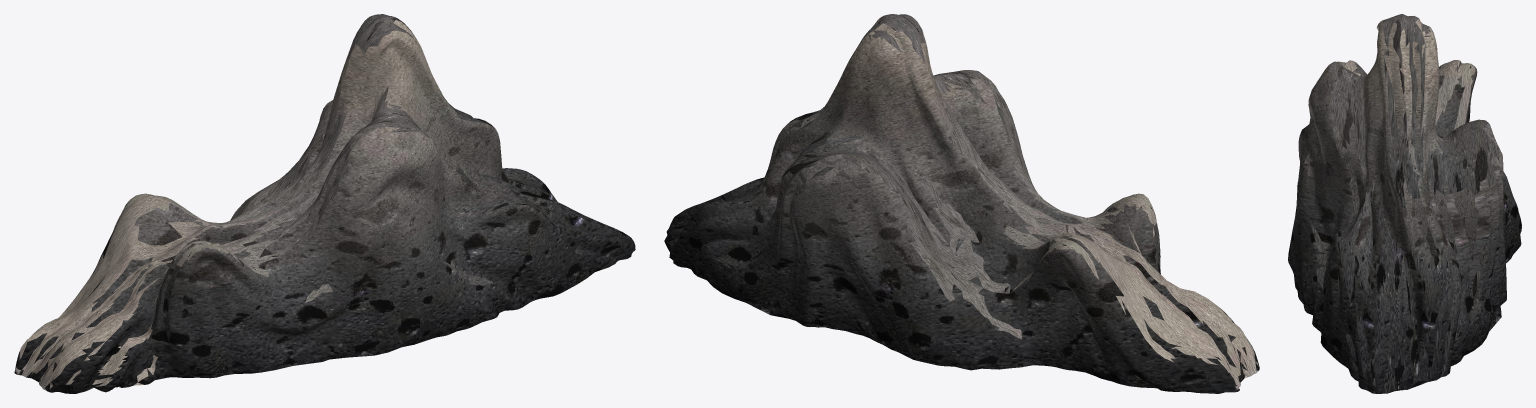
The model's file is shan.gltf.
The picture shows the model from 3 angles, left to right: view 1: azimuth 30°, elevation 25°; view 2: azimuth 150°, elevation 25°; view 3: azimuth 270°, elevation 25°; orthographic projection. The views are drawn at different scales.
Visible parts, largest first — view 1: 假山16; view 2: 假山16; view 3: 假山16.
Boxes of the visible parts, x1,y1,x2,y2 form: 假山16: (14, 14, 635, 393); 假山16: (664, 14, 1259, 393); 假山16: (1288, 14, 1521, 393).
Size of the model in its own units: 2.98 by 1.34 by 1.06.
1 material, 1 textured.
